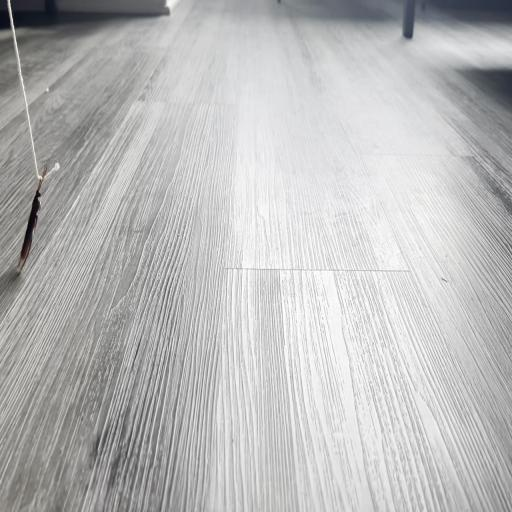cockroach: (18, 165, 47, 270)
